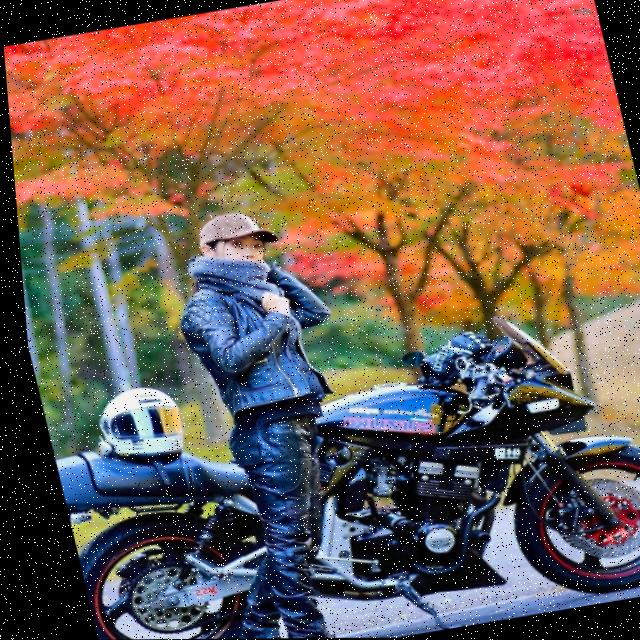illegal_helmet: (182, 202, 288, 279)
